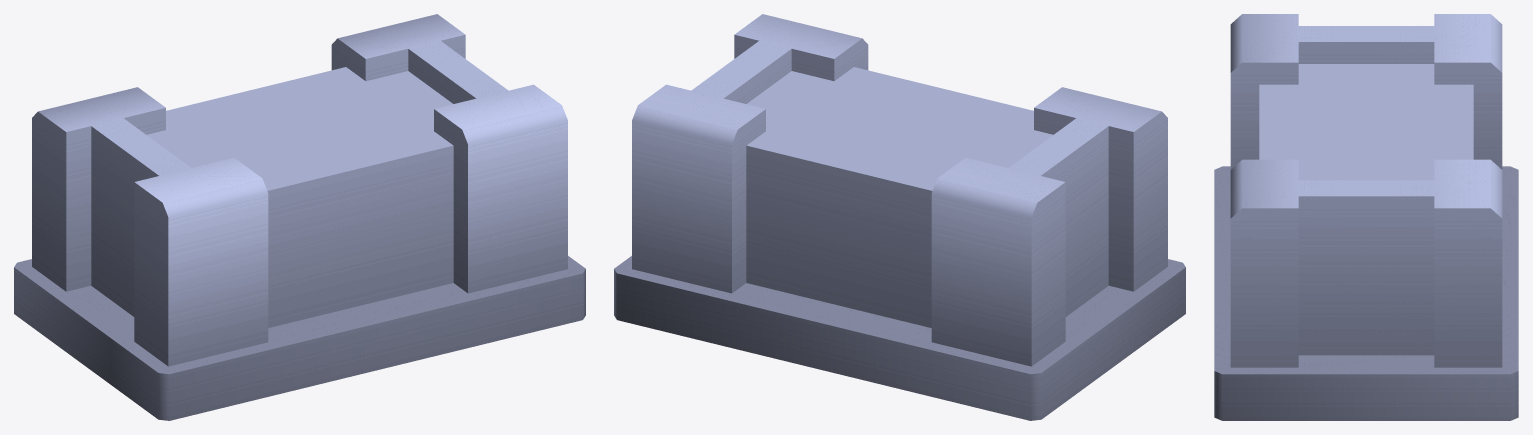
The model's file is altar-stone.glb.
The picture shows the model from 3 angles, left to right: view 1: azimuth 30°, elevation 25°; view 2: azimuth 150°, elevation 25°; view 3: azimuth 270°, elevation 25°; orthographic projection.
Visible parts, largest first — view 1: altar-stone; view 2: altar-stone; view 3: altar-stone.
Part boxes in pixels (x1=…): altar-stone: x1=14, y1=14, x2=585, y2=420; altar-stone: x1=614, y1=14, x2=1185, y2=420; altar-stone: x1=1214, y1=14, x2=1518, y2=420.
Size of the model in its own units: 3.17 by 1.46 by 1.96.
Materials: 1 (1 with a texture image).
